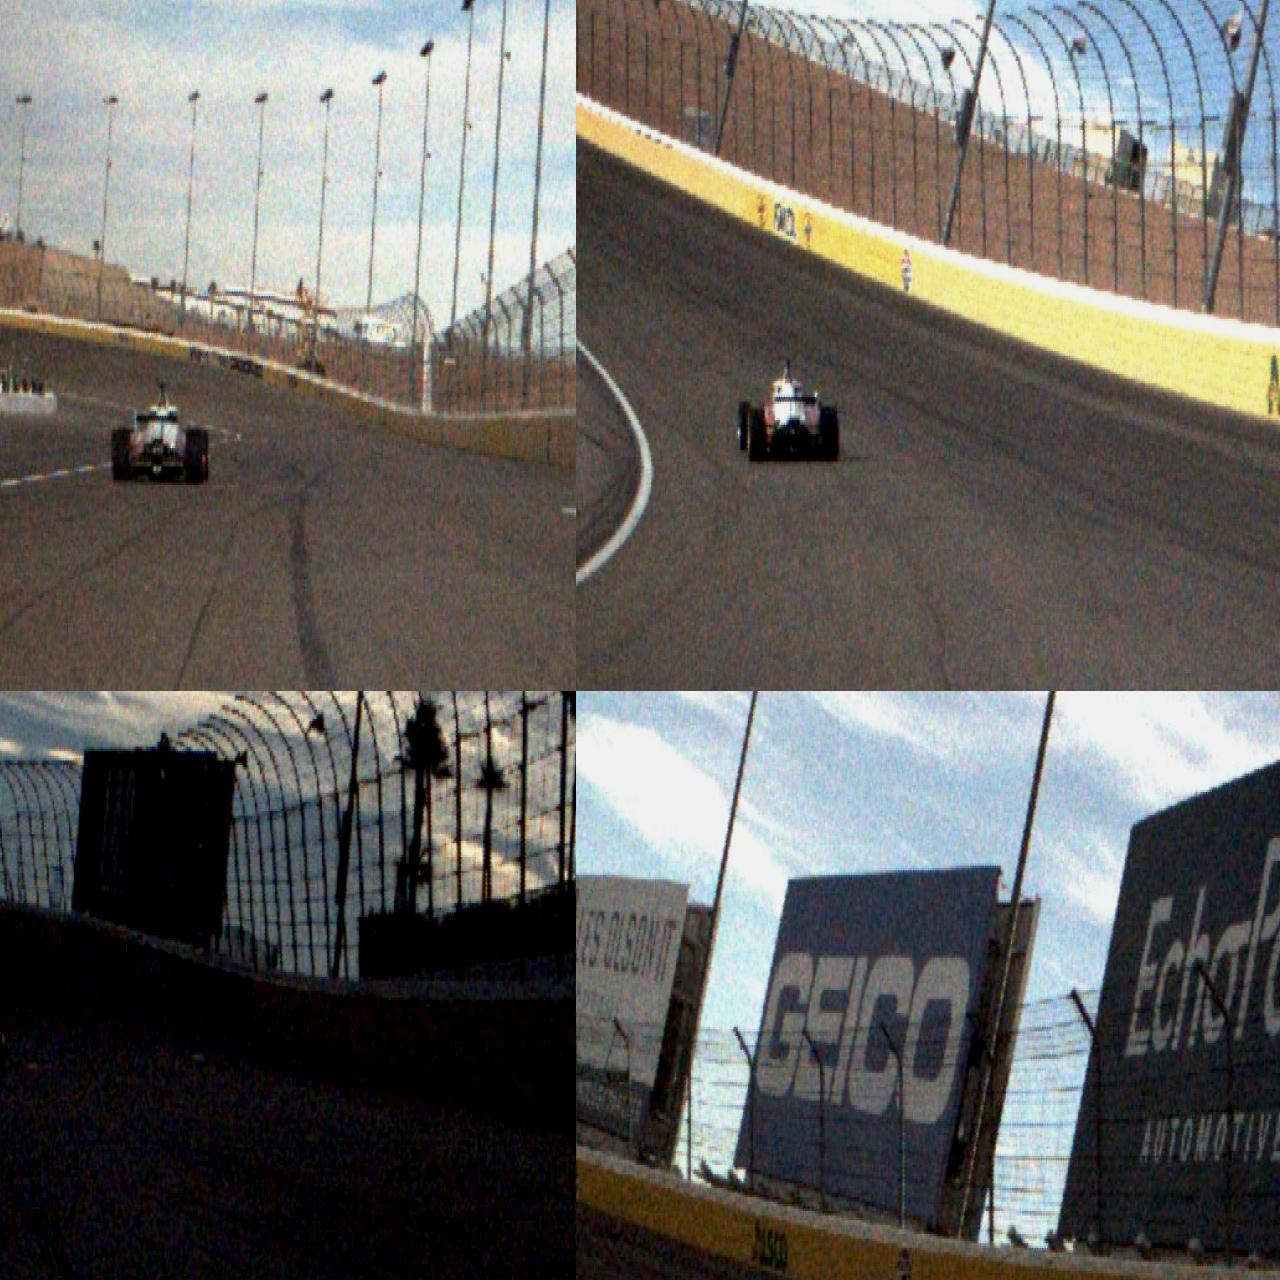AV: (737, 356, 840, 462), (111, 381, 210, 485)
Wheel: (747, 408, 767, 462), (186, 428, 204, 484), (112, 428, 130, 482), (822, 406, 839, 462), (738, 400, 751, 452), (0, 1031, 5, 1081)
